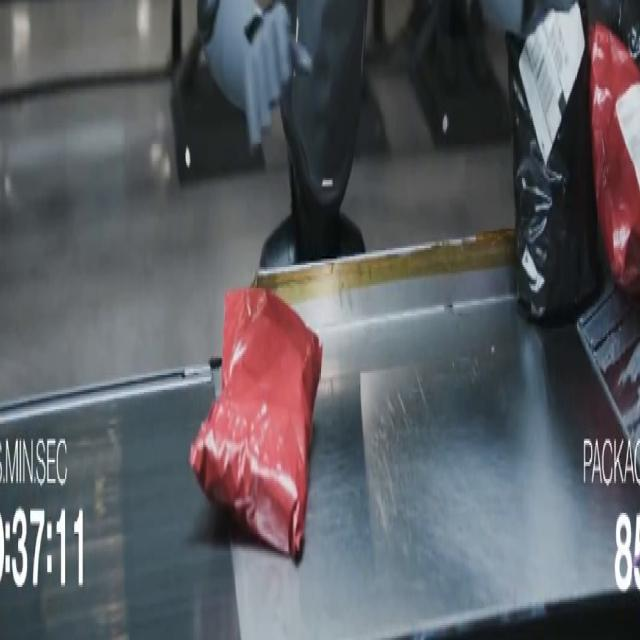package: (190, 289, 322, 557), (506, 3, 600, 322), (590, 3, 639, 294), (589, 0, 639, 65)
